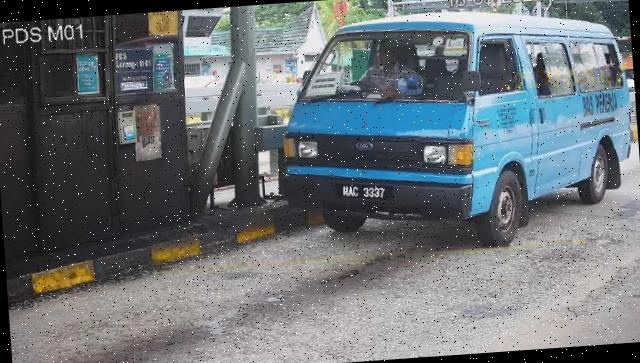License_Plate: (335, 179, 395, 207)
van: (273, 1, 639, 261)
